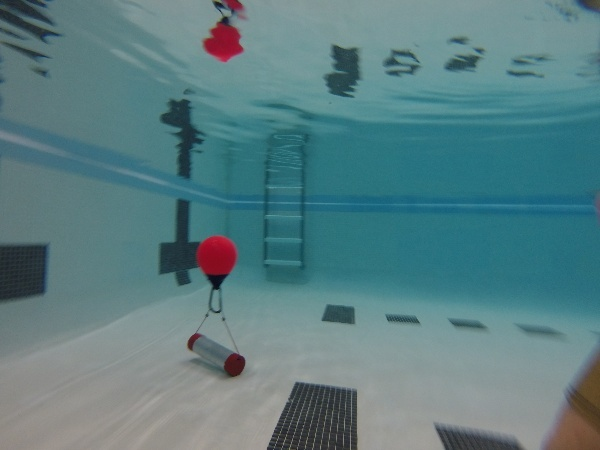buoy_red: (197, 233, 237, 290)
